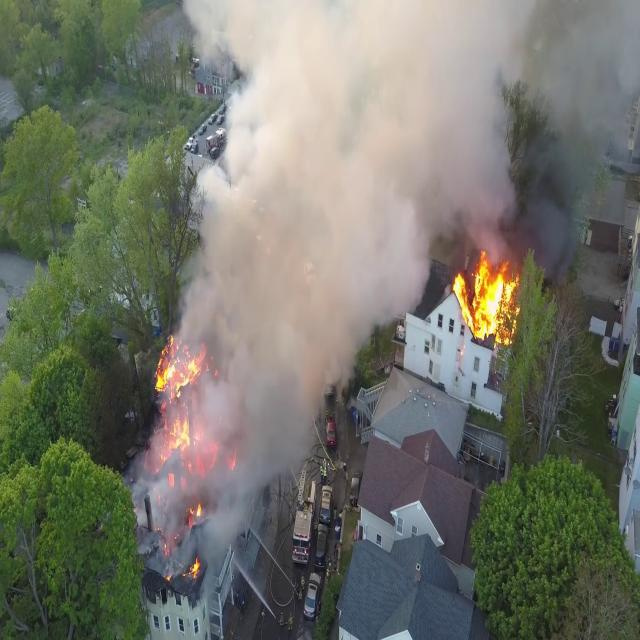fire: (455, 244, 524, 348)
